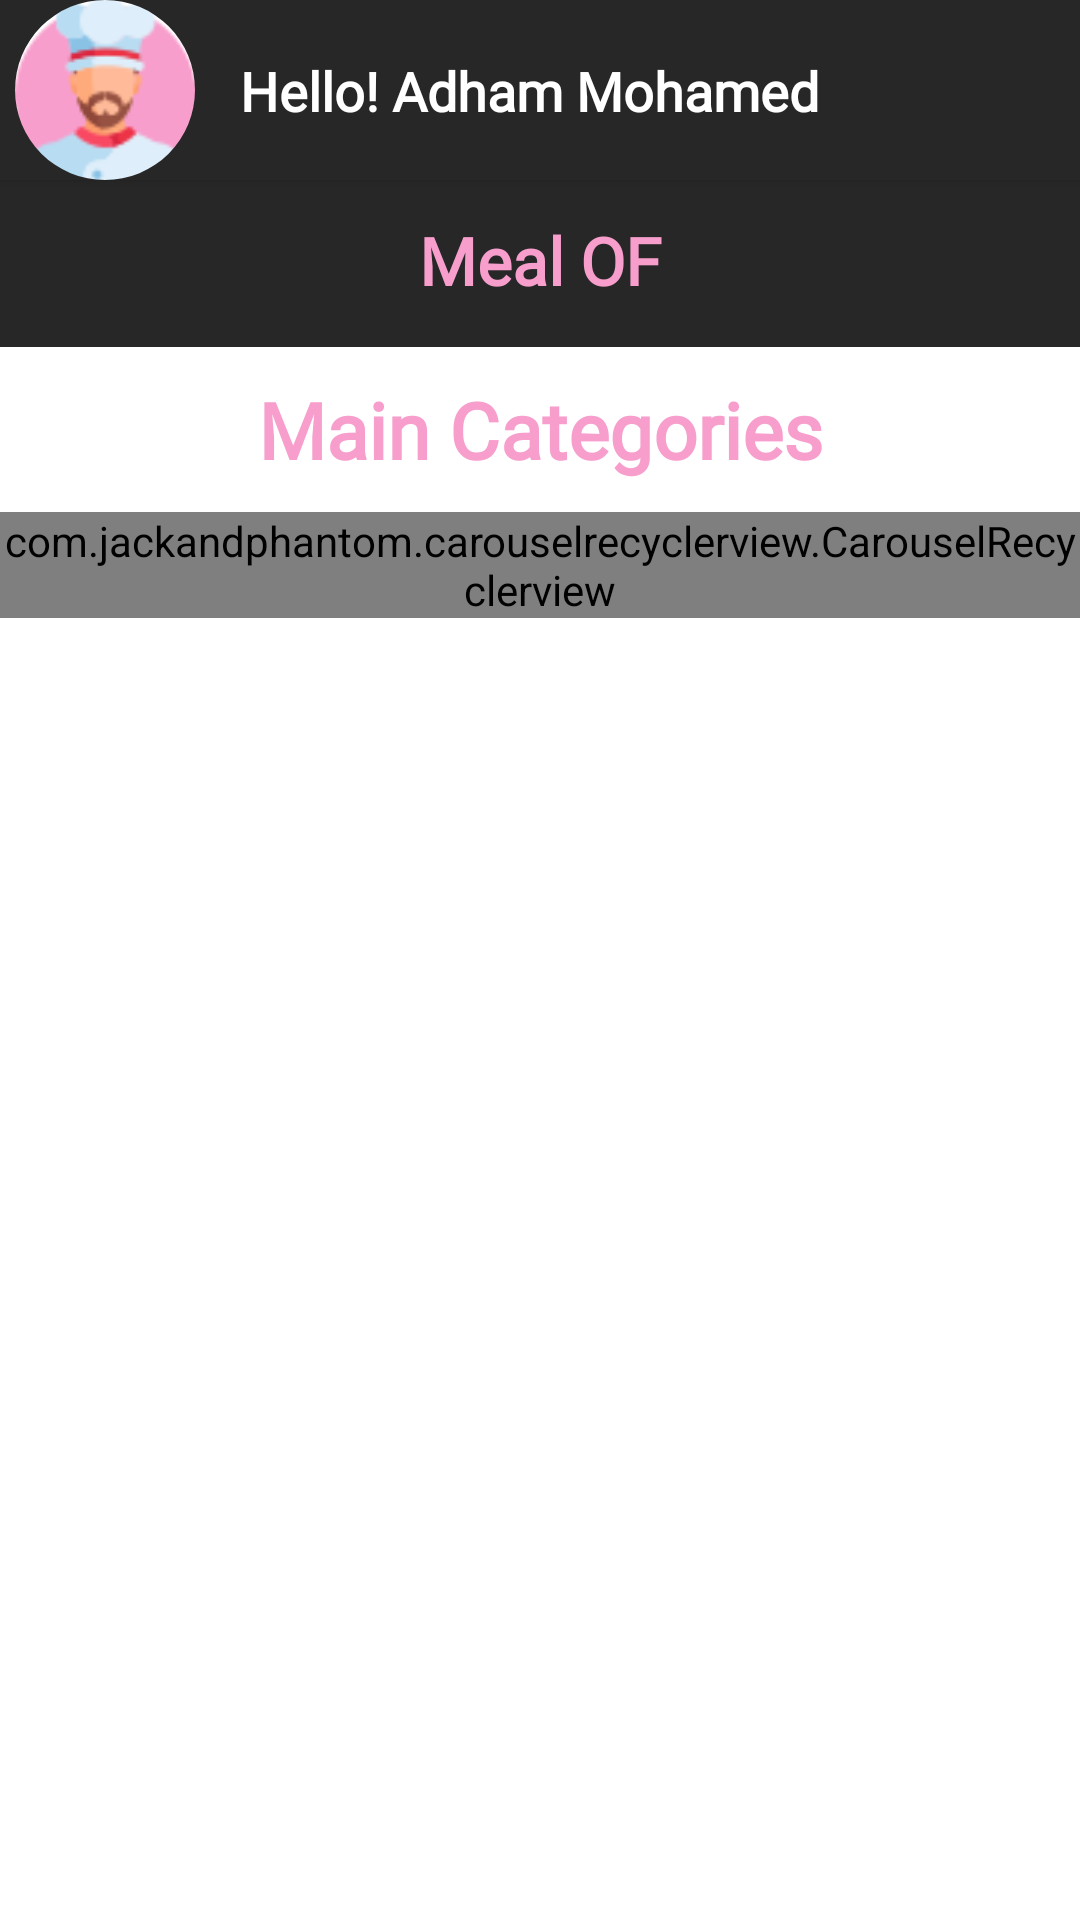

Screen size 1080 × 1920. Icon name, then its box in pixels as detection(x1, y1, x2, y2):
chef: detection(15, 0, 195, 180)
